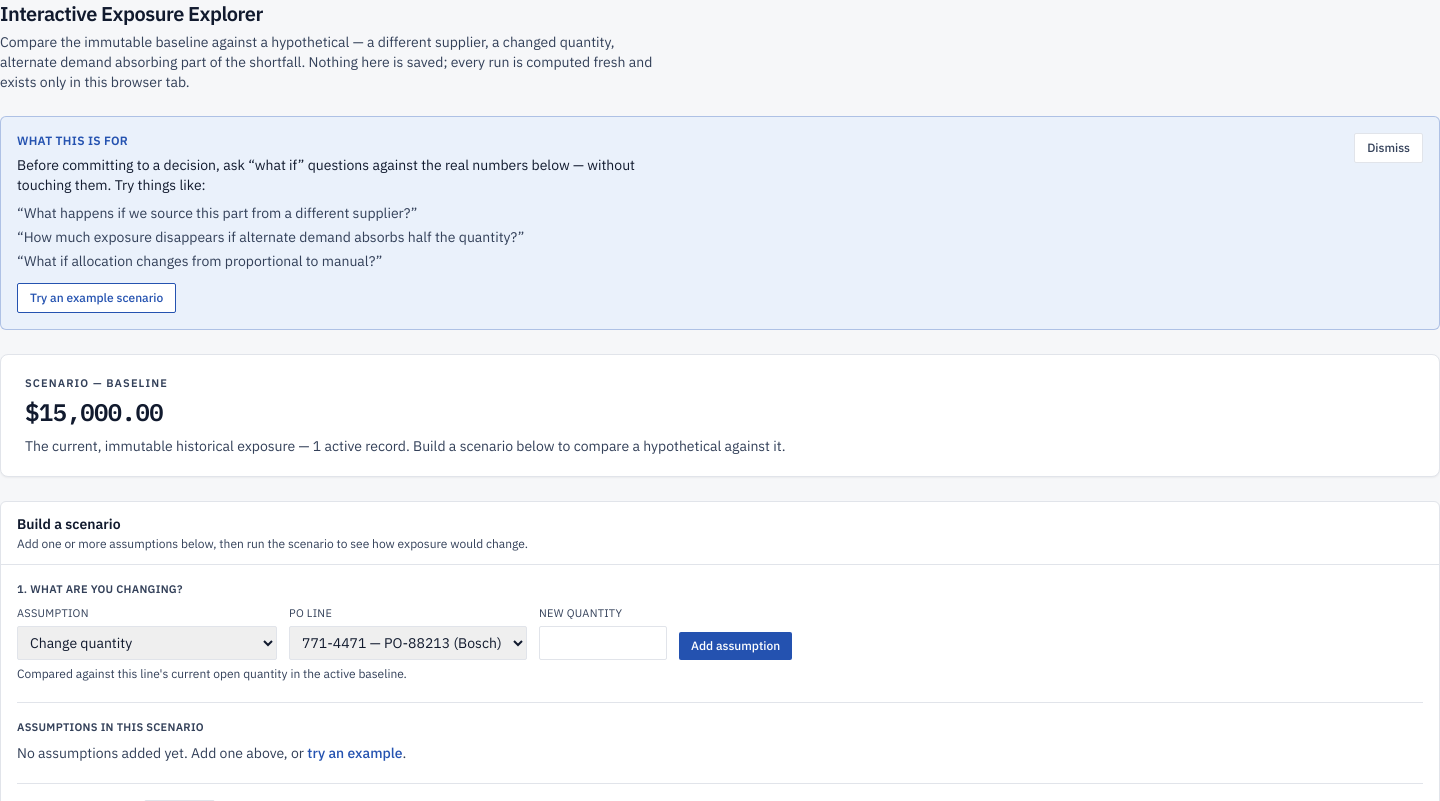
ExposureExplorerClient › disables Run scenario until at least one assumption has been added
This screenshot has width=1440, height=801.
In the number field labelled "New quantity": (603, 642) 539,626 -> 667,660, type "400"
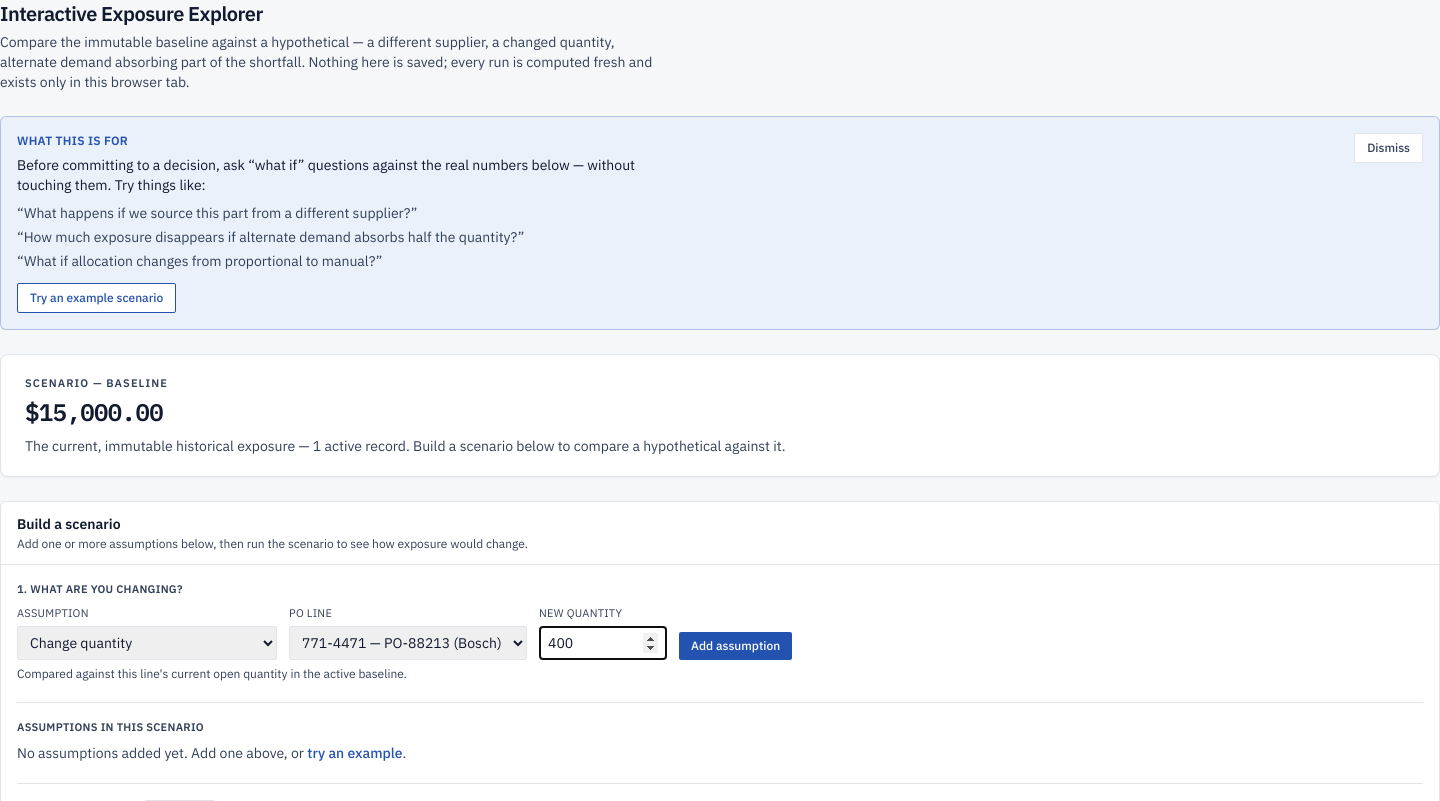
Click the button "Add assumption": click(736, 646) 679,632 -> 792,660
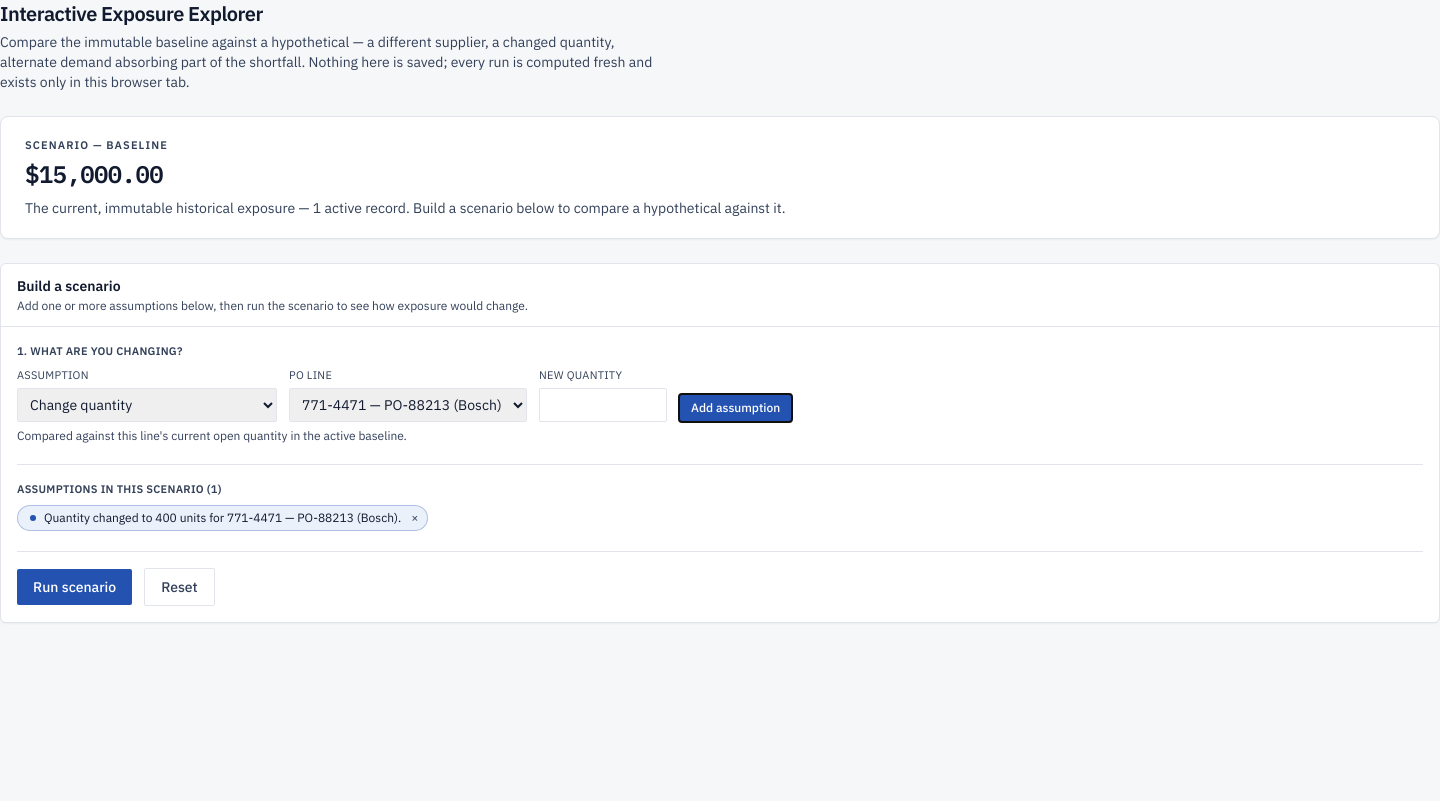
Now the button "Run scenario" is enabled, box 17,569 -> 132,605
